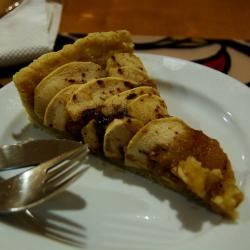apple_pie: (9, 26, 248, 221)
